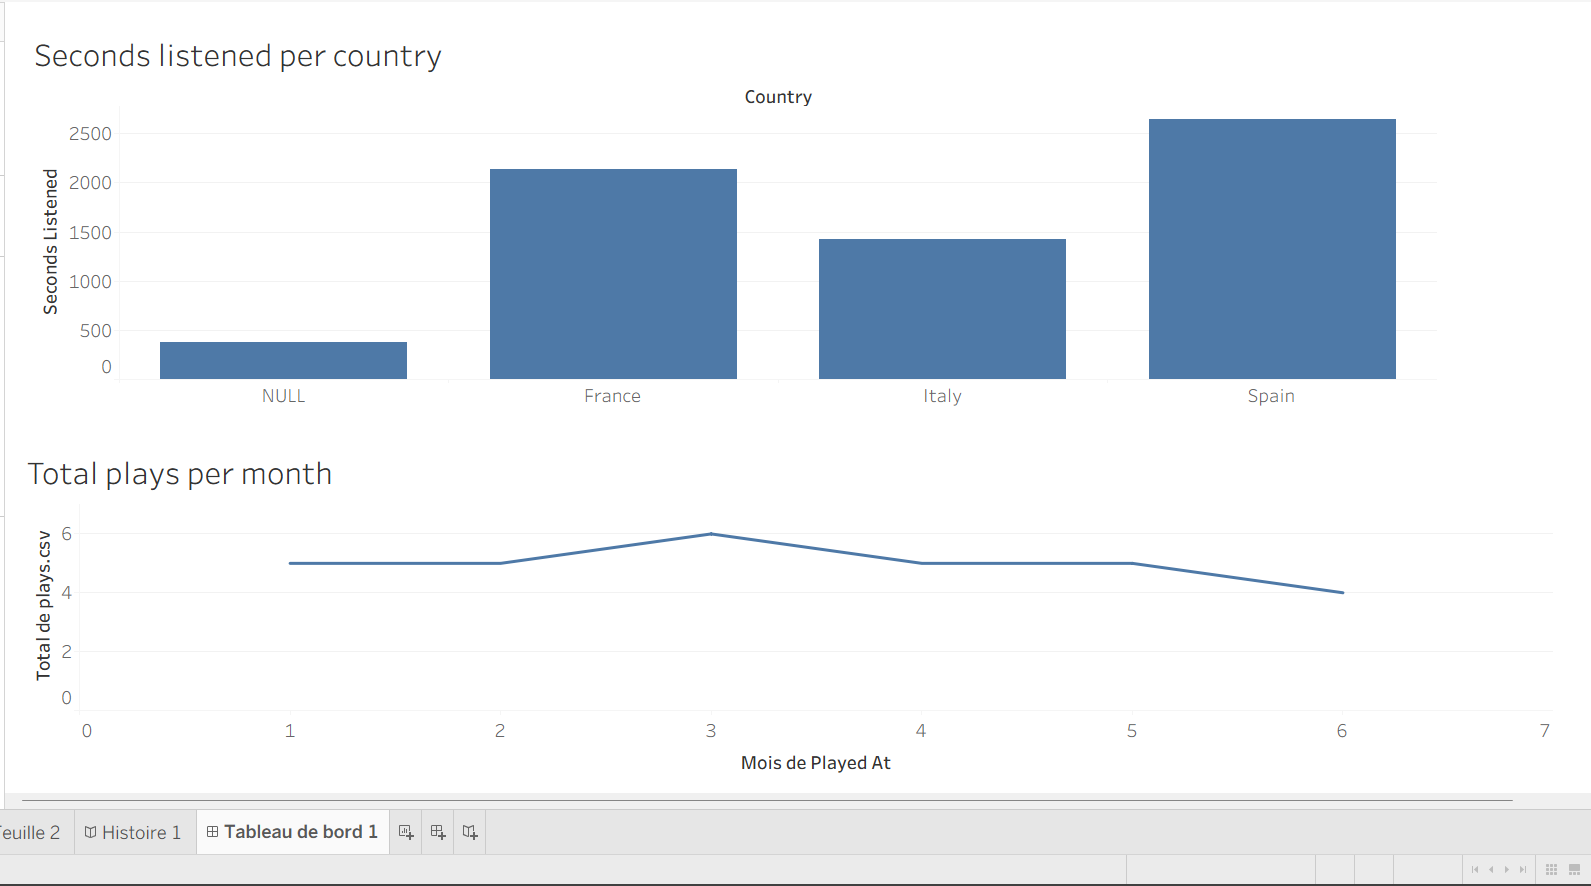

Layout of this report page (visuals, bound fields, positions):
{"tool":"tableau","page":{"name":"Tableau de bord 1","canvas":[1654,1169],"ordinal":0},"visuals":[{"type":"worksheet","title":"Feuille 1","mark":"Automatic","rows":["seconds_listened"],"cols":["country"],"box":[25,27,1407,379]},{"type":"worksheet","title":"Feuille 2","mark":"Automatic","rows":["plays.csv_745113908B1941B99C9FD3F59084ACF9"],"cols":["played_at"],"box":[18,445,1530,334]}]}

Visuals, with their boxes on the page's 1654x1169 design canvas (x1, y1, x2, y2). These are canvas units, not pixel positions in the 1591x886 screenshot, which may show the page scaled, cropped or inside an application window:
"Feuille 1" worksheet: [left=25, top=27, right=1432, bottom=406]
"Feuille 2" worksheet: [left=18, top=445, right=1548, bottom=779]
